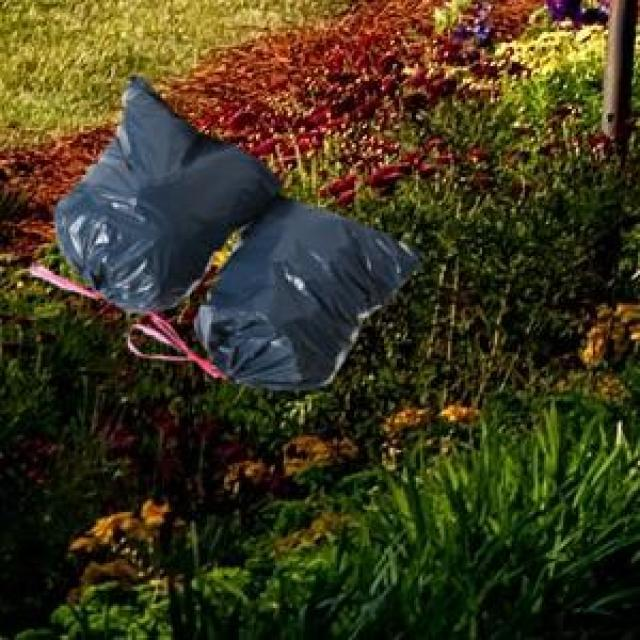Trashbag: (215, 206, 391, 399), (64, 109, 232, 303)
